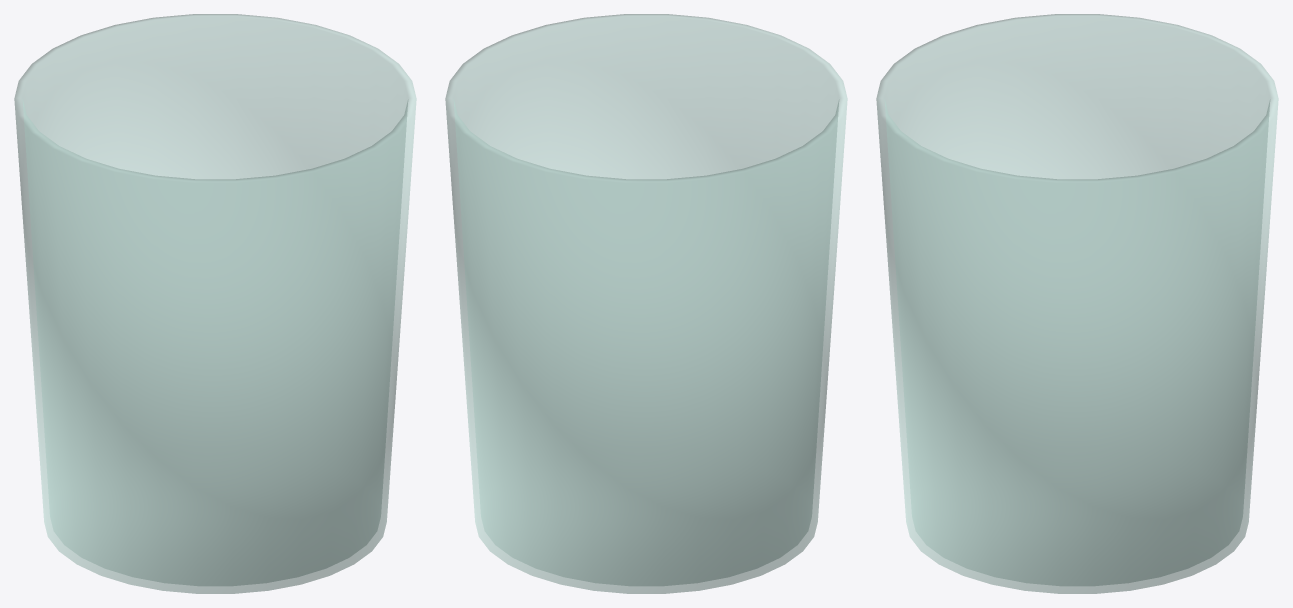
Rendered from glass.fbx.
3 renders of one model, left to right at view 1: azimuth 30°, elevation 25°; view 2: azimuth 150°, elevation 25°; view 3: azimuth 270°, elevation 25°, orthographic.
Parts seen in each view (by area): view 1: Окружность; view 2: Окружность; view 3: Окружность.
Boxes of the visible parts, x1=… form: Окружность: x1=14, y1=14, x2=416, y2=593; Окружность: x1=445, y1=14, x2=847, y2=593; Окружность: x1=876, y1=14, x2=1278, y2=593.
Bounding box in the file's own units: 242 × 283 × 243.
